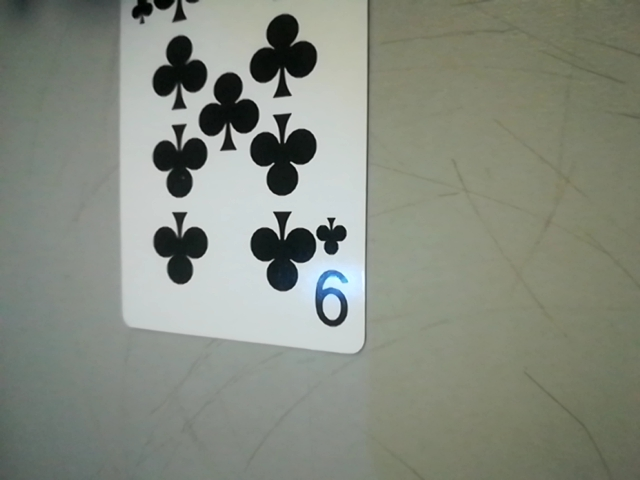mh 9: (306, 214, 362, 342)
